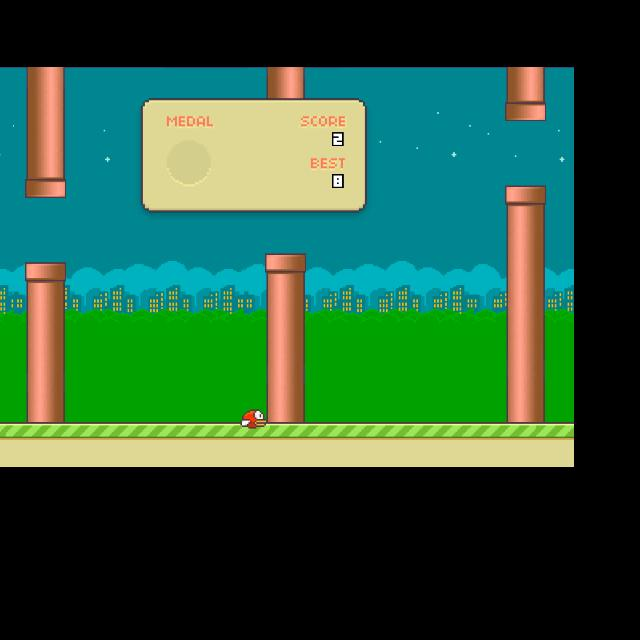bird: (240, 409, 264, 427)
pipedown: (504, 185, 545, 404), (24, 260, 65, 422), (263, 254, 305, 404)
pipeup: (24, 80, 65, 198), (506, 81, 545, 120)
